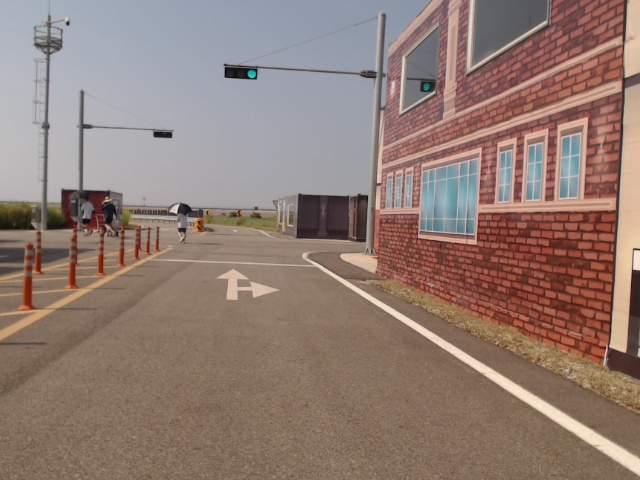green_3: (225, 66, 258, 80)
